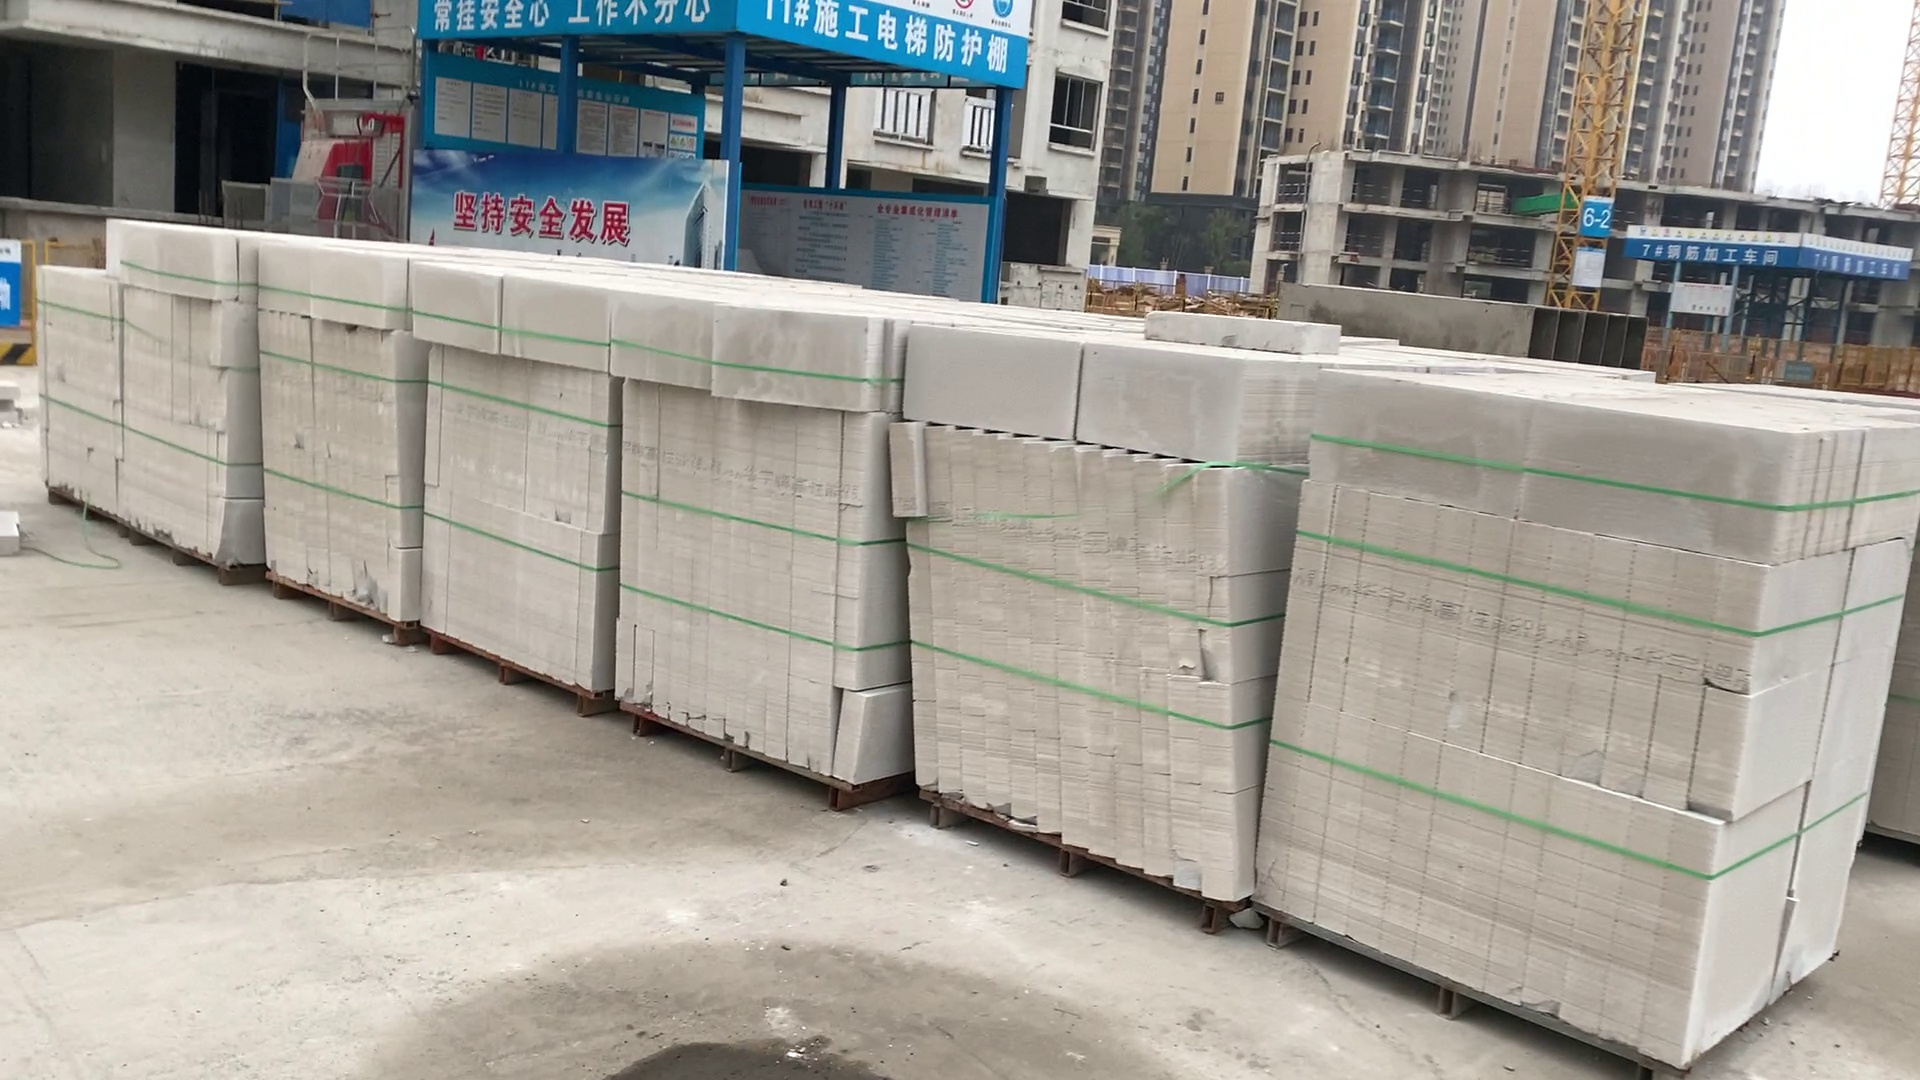brickwork: (1305, 372, 1884, 1064), (895, 324, 1249, 931), (618, 284, 876, 804), (407, 249, 618, 703), (36, 208, 253, 574), (256, 233, 411, 645)
